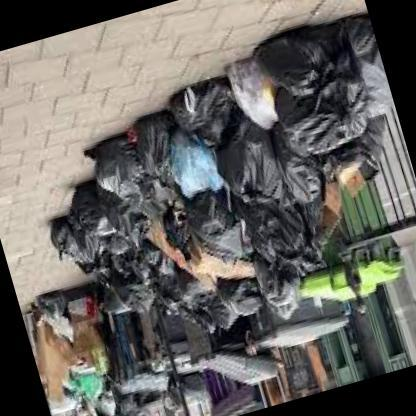Garbage: (92, 101, 300, 348), (232, 35, 384, 203), (48, 189, 190, 339), (329, 20, 395, 131), (266, 186, 342, 262)
